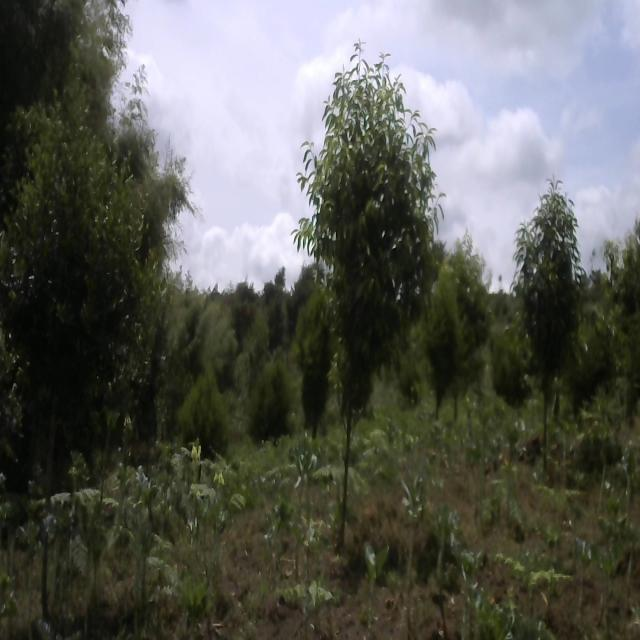Olea europea -africana-: (2, 116, 166, 488)
Prunus Africana: (300, 53, 435, 601), (496, 137, 587, 487)
